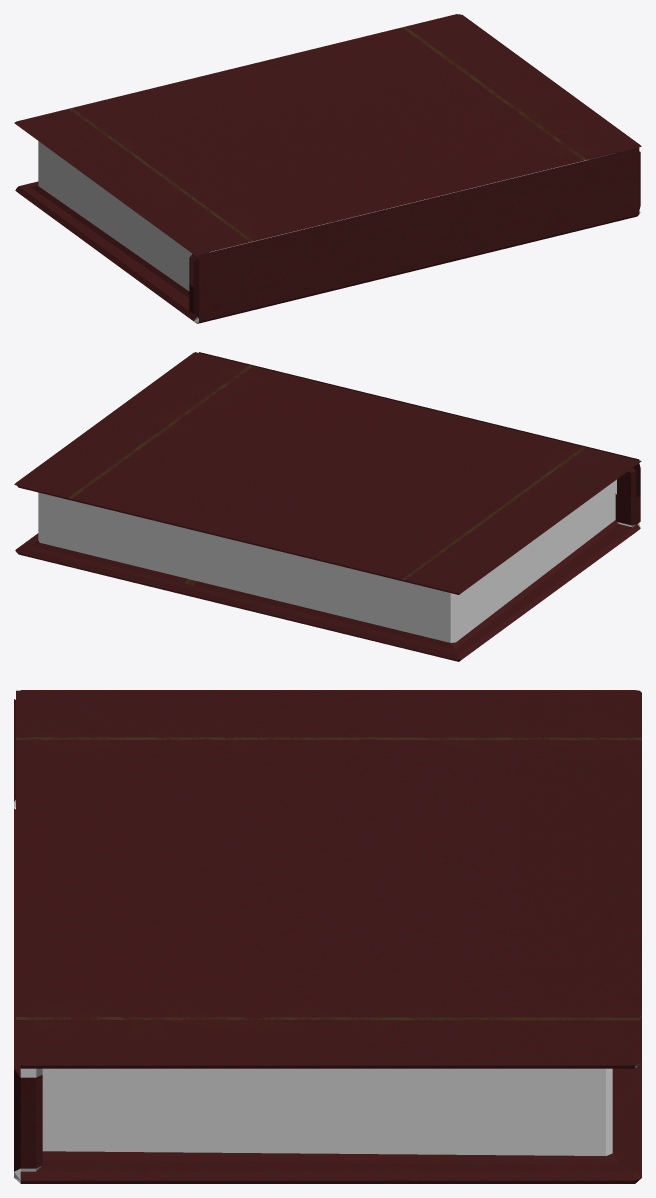
The model's file is book.glb.
3 views of the same model, one above another, from view 1: azimuth 30°, elevation 25°; view 2: azimuth 150°, elevation 25°; view 3: azimuth 270°, elevation 25° (orthographic). The views are drawn at different scales.
Visible parts, largest first — view 1: book_dwn, book_up; view 2: book_dwn, book_up; view 3: book_dwn, book_up.
Part boxes in pixels (box(x1,y1,x2,y2)): book_dwn: box(14, 14, 641, 288); book_up: box(15, 159, 640, 323); book_dwn: box(14, 352, 641, 616); book_up: box(15, 492, 640, 661); book_dwn: box(14, 690, 641, 1123); book_up: box(14, 750, 641, 1183).
Size of the model in its own units: 1 by 0.1506 by 0.707.
3 materials, 2 textured.
